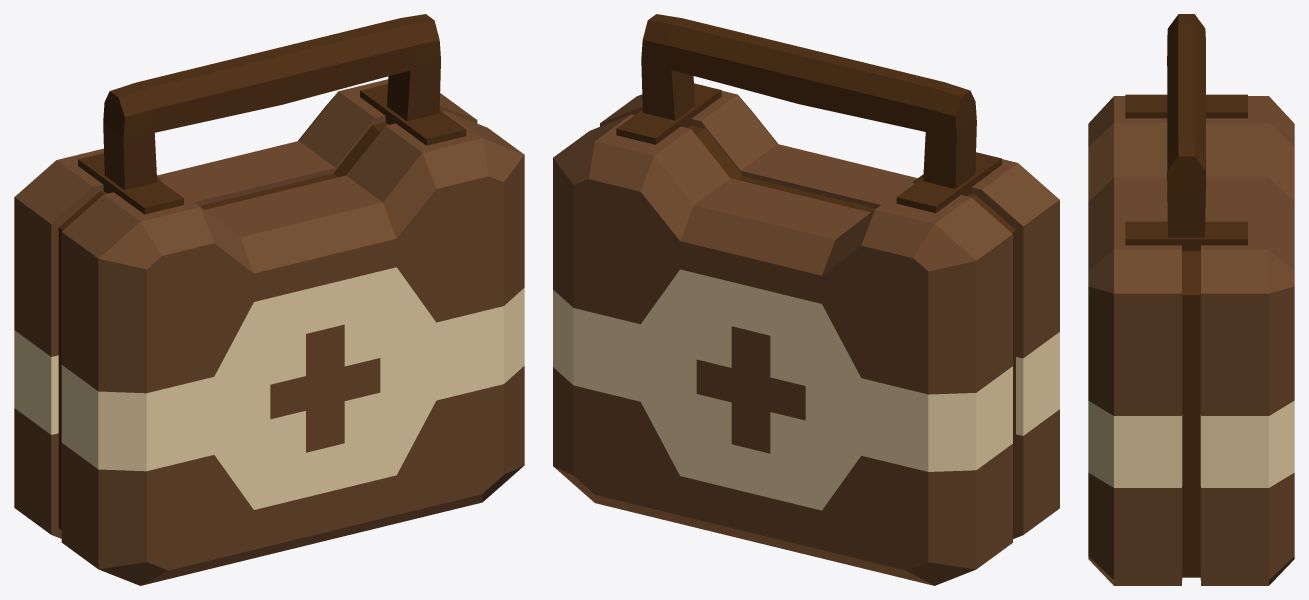
Rendered from quaternius-ultimate-space-pack-pickup-health-transformed.glb.
3 views of the same model, side by side, from view 1: azimuth 30°, elevation 25°; view 2: azimuth 150°, elevation 25°; view 3: azimuth 270°, elevation 25° (orthographic). The views are drawn at different scales.
Parts seen in each view (by area): view 1: Pickup_Health; view 2: Pickup_Health; view 3: Pickup_Health.
Boxes of the visible parts, box(x1,y1,x2,y2) form: Pickup_Health: box(14, 14, 524, 585); Pickup_Health: box(553, 14, 1059, 585); Pickup_Health: box(1088, 14, 1294, 585).
Size of the model in its own units: 0.9694 by 1 by 0.4401.
1 material, 1 textured.
